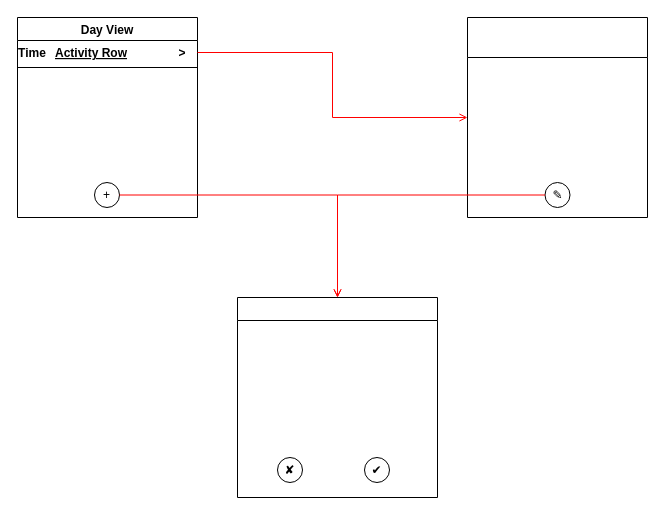
The diagram is 665 pixels wide and 515 high, and some of its shapes have lost their labels. Here are the shapes that lost their labels. From the top down, the box of each, then its label:
(466, 16, 648, 218): Details Page (Activity Form disabled)
(236, 296, 438, 498): Activity Form
